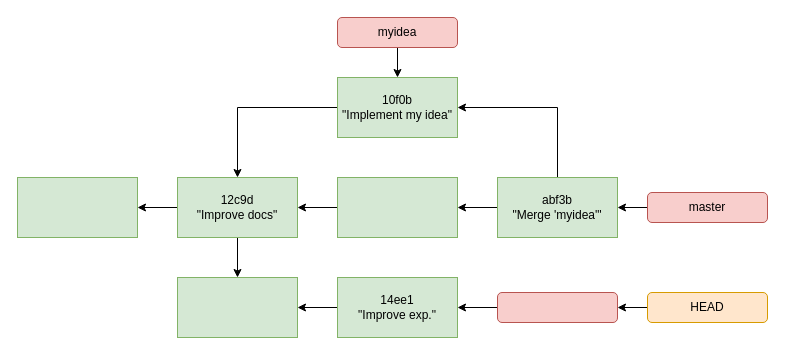
The diagram is 785 pixels wide and 355 high, and some of its shapes have lost their labels. Here are the shapes that lost their labels. From the top down, the centre of each, then its label:
(77,207): 9ac45 "First commit"
(397,207): 76bce "Add feature"
(237,307): 52df8 "Add experiment"
(557,307): experiment
